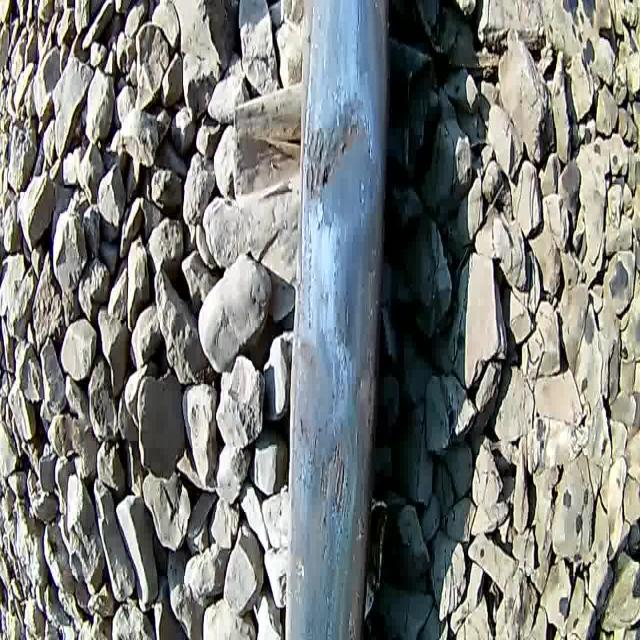Squats: (262, 216, 416, 394), (259, 426, 401, 553), (271, 84, 398, 224)
